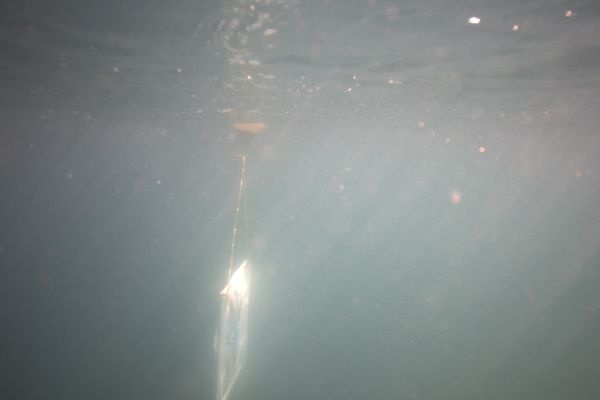torpille: (219, 262, 247, 400)
